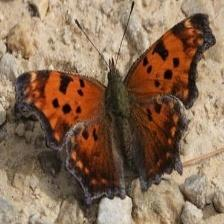butterfly: (16, 14, 216, 204)
